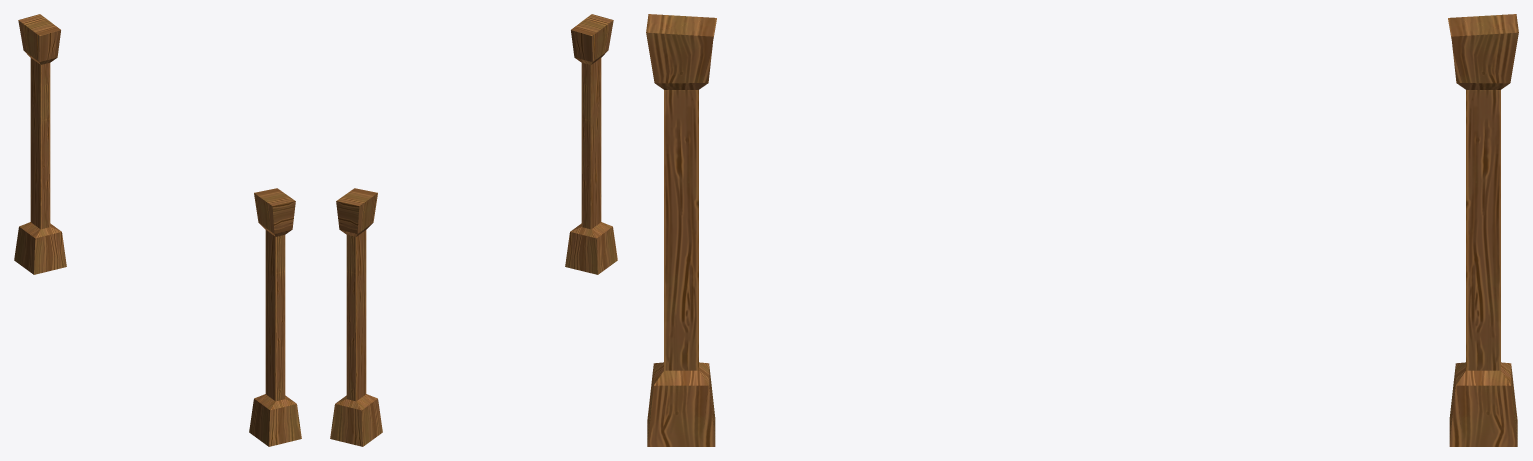
3 renders of one model, left to right at view 1: azimuth 30°, elevation 25°; view 2: azimuth 150°, elevation 25°; view 3: azimuth 270°, elevation 25°, orthographic. The views are drawn at different scales.
Visible parts, largest first — view 1: Cube.1190; view 2: Cube.1190; view 3: Cube.1190.
Boxes of the visible parts, x1,y1,x2,y2 form: Cube.1190: (14,14,301,446); Cube.1190: (330,14,617,446); Cube.1190: (646,14,1518,446).
Size of the model in its own units: 52.58 by 366 by 708.
Materials: 1 (1 with a texture image).
